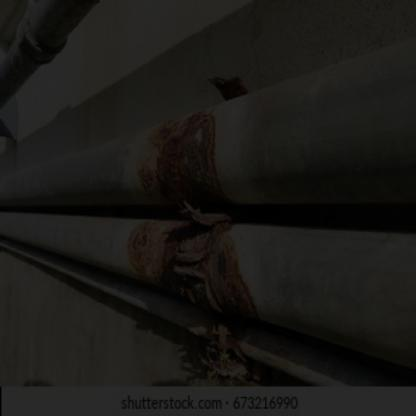burst: (136, 218, 260, 317), (149, 122, 240, 204)
